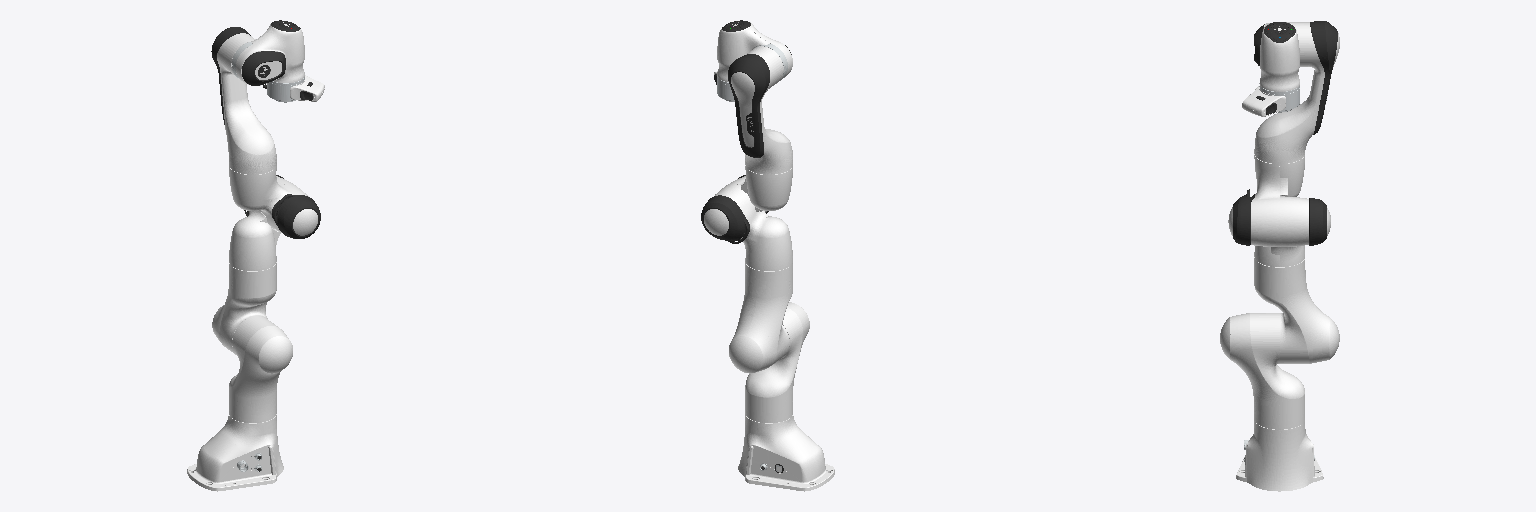
robot.urdf — panda:
<?xml version="1.0" ?>
<!-- =================================================================================== -->
<!-- |    This document was autogenerated by xacro from /opt/ros/kinetic/share/moveit_resources/panda_description/urdf/panda.urdf | -->
<!-- |    EDITING THIS FILE BY HAND IS NOT RECOMMENDED                                 | -->
<!-- =================================================================================== -->
<robot name="panda" xmlns:xacro="http://www.ros.org/wiki/xacro">
    <link name="panda_link_0">
        <visual>
            <geometry>
                <mesh filename="package://moveit_resources_panda_description/meshes/visual/link0.dae" />
            </geometry>
        </visual>
        <collision>
            <geometry>
                <mesh filename="package://moveit_resources_panda_description/meshes/collision/link0.stl" />
            </geometry>
        </collision>
    </link>
    <link name="panda_link_1">
        <visual>
            <geometry>
                <mesh filename="package://moveit_resources_panda_description/meshes/visual/link1.dae" />
            </geometry>
        </visual>
        <collision>
            <geometry>
                <mesh filename="package://moveit_resources_panda_description/meshes/collision/link1.stl" />
            </geometry>
        </collision>
    </link>
    <joint name="panda_joint_1" type="revolute">
        <safety_controller k_position="100.0" k_velocity="40.0" soft_lower_limit="-4.8973" soft_upper_limit="5.8973" />
        <origin rpy="0 0 0" xyz="0 0 0.333" />
        <parent link="panda_link_0" />
        <child link="panda_link_1" />
        <axis xyz="0 0 1" />
        <limit effort="87" lower="-2.9671" upper="2.9671" velocity="2.3925" />
    </joint>
    <link name="panda_link_2">
        <visual>
            <geometry>
                <mesh filename="package://moveit_resources_panda_description/meshes/visual/link2.dae" />
            </geometry>
        </visual>
        <collision>
            <geometry>
                <mesh filename="package://moveit_resources_panda_description/meshes/collision/link2.stl" />
            </geometry>
        </collision>
    </link>
    <joint name="panda_joint_2" type="revolute">
        <safety_controller k_position="100.0" k_velocity="40.0" soft_lower_limit="-2.7628" soft_upper_limit="2.7628" />
        <origin rpy="-1.57079632679 0 0" xyz="0 0 0" />
        <parent link="panda_link_1" />
        <child link="panda_link_2" />
        <axis xyz="0 0 1" />
        <limit effort="87" lower="-1.8326" upper="1.8326" velocity="2.3925" />
    </joint>
    <link name="panda_link_3">
        <visual>
            <geometry>
                <mesh filename="package://moveit_resources_panda_description/meshes/visual/link3.dae" />
            </geometry>
        </visual>
        <collision>
            <geometry>
                <mesh filename="package://moveit_resources_panda_description/meshes/collision/link3.stl" />
            </geometry>
        </collision>
    </link>
    <joint name="panda_joint_3" type="revolute">
        <safety_controller k_position="100.0" k_velocity="40.0" soft_lower_limit="-2.8973" soft_upper_limit="2.8973" />
        <origin rpy="1.57079632679 0 0" xyz="0 -0.316 0" />
        <parent link="panda_link_2" />
        <child link="panda_link_3" />
        <axis xyz="0 0 1" />
        <limit effort="87" lower="-2.9671" upper="2.9671" velocity="2.3925" />
    </joint>
    <link name="panda_link_4">
        <visual>
            <geometry>
                <mesh filename="package://moveit_resources_panda_description/meshes/visual/link4.dae" />
            </geometry>
        </visual>
        <collision>
            <geometry>
                <mesh filename="package://moveit_resources_panda_description/meshes/collision/link4.stl" />
            </geometry>
        </collision>
    </link>
    <joint name="panda_joint_4" type="revolute">
        <safety_controller k_position="100.0" k_velocity="40.0" soft_lower_limit="-3.0718" soft_upper_limit="3.0175" />
        <origin rpy="1.57079632679 0 0" xyz="0.0825 0 0" />
        <parent link="panda_link_3" />
        <child link="panda_link_4" />
        <axis xyz="0 0 1" />
        <limit effort="87" lower="-3.1416" upper="0.0873" velocity="2.3925" />
    </joint>
    <link name="panda_link_5">
        <visual>
            <geometry>
                <mesh filename="package://moveit_resources_panda_description/meshes/visual/link5.dae" />
            </geometry>
        </visual>
        <collision>
            <geometry>
                <mesh filename="package://moveit_resources_panda_description/meshes/collision/link5.stl" />
            </geometry>
        </collision>
    </link>
    <joint name="panda_joint_5" type="revolute">
        <safety_controller k_position="100.0" k_velocity="40.0" soft_lower_limit="-2.8973" soft_upper_limit="2.8973" />
        <origin rpy="-1.57079632679 0 0" xyz="-0.0825 0.384 0" />
        <parent link="panda_link_4" />
        <child link="panda_link_5" />
        <axis xyz="0 0 1" />
        <limit effort="12" lower="-2.9671" upper="2.9671" velocity="2.8710" />
    </joint>
    <link name="panda_link_6">
        <visual>
            <geometry>
                <mesh filename="package://moveit_resources_panda_description/meshes/visual/link6.dae" />
            </geometry>
        </visual>
        <collision>
            <geometry>
                <mesh filename="package://moveit_resources_panda_description/meshes/collision/link6.stl" />
            </geometry>
        </collision>
    </link>
    <joint name="panda_joint_6" type="revolute">
        <safety_controller k_position="100.0" k_velocity="40.0" soft_lower_limit="-3.0175" soft_upper_limit="3.7525" />
        <origin rpy="1.57079632679 0 0" xyz="0 0 0" />
        <parent link="panda_link_5" />
        <child link="panda_link_6" />
        <axis xyz="0 0 1" />
        <limit effort="12" lower="-0.0873" upper="3.8223" velocity="2.8710" />
    </joint>
    <link name="panda_link_7">
        <visual>
            <geometry>
                <mesh filename="package://moveit_resources_panda_description/meshes/visual/link7.dae" />
            </geometry>
        </visual>
        <collision>
            <geometry>
                <mesh filename="package://moveit_resources_panda_description/meshes/collision/link7.stl" />
            </geometry>
        </collision>
    </link>
    <joint name="panda_joint_7" type="revolute">
        <safety_controller k_position="100.0" k_velocity="40.0" soft_lower_limit="-2.8973" soft_upper_limit="2.8973" />
        <origin rpy="1.57079632679 0 0" xyz="0.088 0 0" />
        <parent link="panda_link_6" />
        <child link="panda_link_7" />
        <axis xyz="0 0 1" />
        <limit effort="12" lower="-2.9671" upper="2.9671" velocity="2.8710" />
    </joint>
    <link name="panda_link_ee" />
    <joint name="panda_joint_8" type="fixed">
        <origin rpy="0 0 0" xyz="0 0 0.107" />
        <parent link="panda_link_7" />
        <child link="panda_link_ee" />
        <axis xyz="0 0 0" />
    </joint>

</robot>

--- What the picture shows (computed from the rendered views, not written in the file) ---
3 views of the same robot in one strip: view 1: azimuth 30°, elevation 25°; view 2: azimuth 150°, elevation 25°; view 3: azimuth 270°, elevation 25° (orthographic).
Model panda with 9 links and 8 joints (7 revolute, 1 fixed), rooted at panda_link_0, posed all joints at 0.
Links seen in each view (by area): view 1: panda_link_0, panda_link_1, panda_link_5, panda_link_4, panda_link_6, panda_link_2, panda_link_3, panda_link_7; view 2: panda_link_0, panda_link_5, panda_link_2, panda_link_3, panda_link_1, panda_link_6, panda_link_4; view 3: panda_link_1, panda_link_5, panda_link_2, panda_link_0, panda_link_4, panda_link_3, panda_link_6, panda_link_7.
Boxes of the visible links, left/top/right/bottom form: panda_link_0: left=187, top=414, right=283, bottom=491; panda_link_1: left=229, top=316, right=292, bottom=422; panda_link_5: left=211, top=27, right=276, bottom=174; panda_link_4: left=229, top=166, right=320, bottom=238; panda_link_6: left=232, top=20, right=304, bottom=85; panda_link_2: left=212, top=262, right=276, bottom=354; panda_link_3: left=229, top=175, right=295, bottom=270; panda_link_7: left=263, top=75, right=324, bottom=102; panda_link_0: left=738, top=414, right=834, bottom=491; panda_link_5: left=728, top=46, right=792, bottom=174; panda_link_2: left=729, top=262, right=792, bottom=373; panda_link_3: left=701, top=184, right=792, bottom=270; panda_link_1: left=745, top=302, right=809, bottom=422; panda_link_6: left=717, top=20, right=792, bottom=81; panda_link_4: left=726, top=165, right=792, bottom=213; panda_link_1: left=1220, top=313, right=1304, bottom=429; panda_link_5: left=1254, top=21, right=1339, bottom=163; panda_link_2: left=1254, top=257, right=1339, bottom=363; panda_link_0: left=1236, top=420, right=1323, bottom=491; panda_link_4: left=1228, top=154, right=1304, bottom=246; panda_link_3: left=1254, top=196, right=1330, bottom=266; panda_link_6: left=1254, top=22, right=1299, bottom=91; panda_link_7: left=1242, top=83, right=1299, bottom=116.
Size in the robot's own frame: 0.3234 by 0.2593 by 1.11 metres.
Meshes: 8 distinct files referenced, 8 mesh visuals loaded (8 Collada DAE).